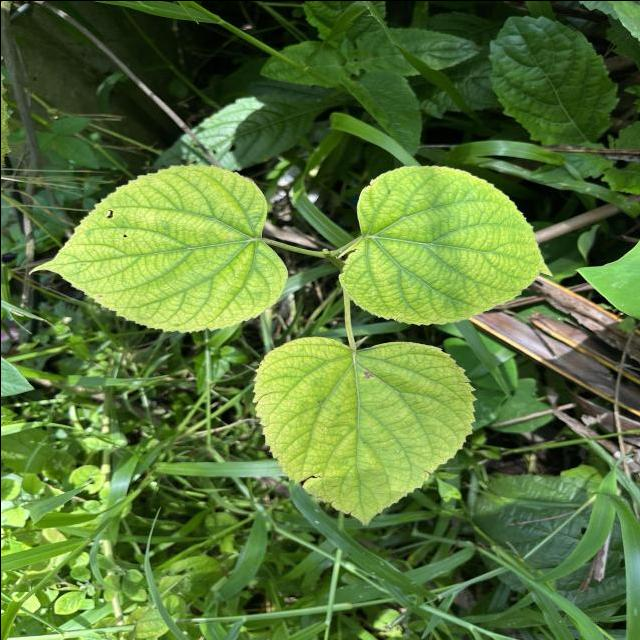Clerodendrum infortunatum: (27, 161, 292, 333), (251, 334, 478, 526), (336, 162, 554, 326)
